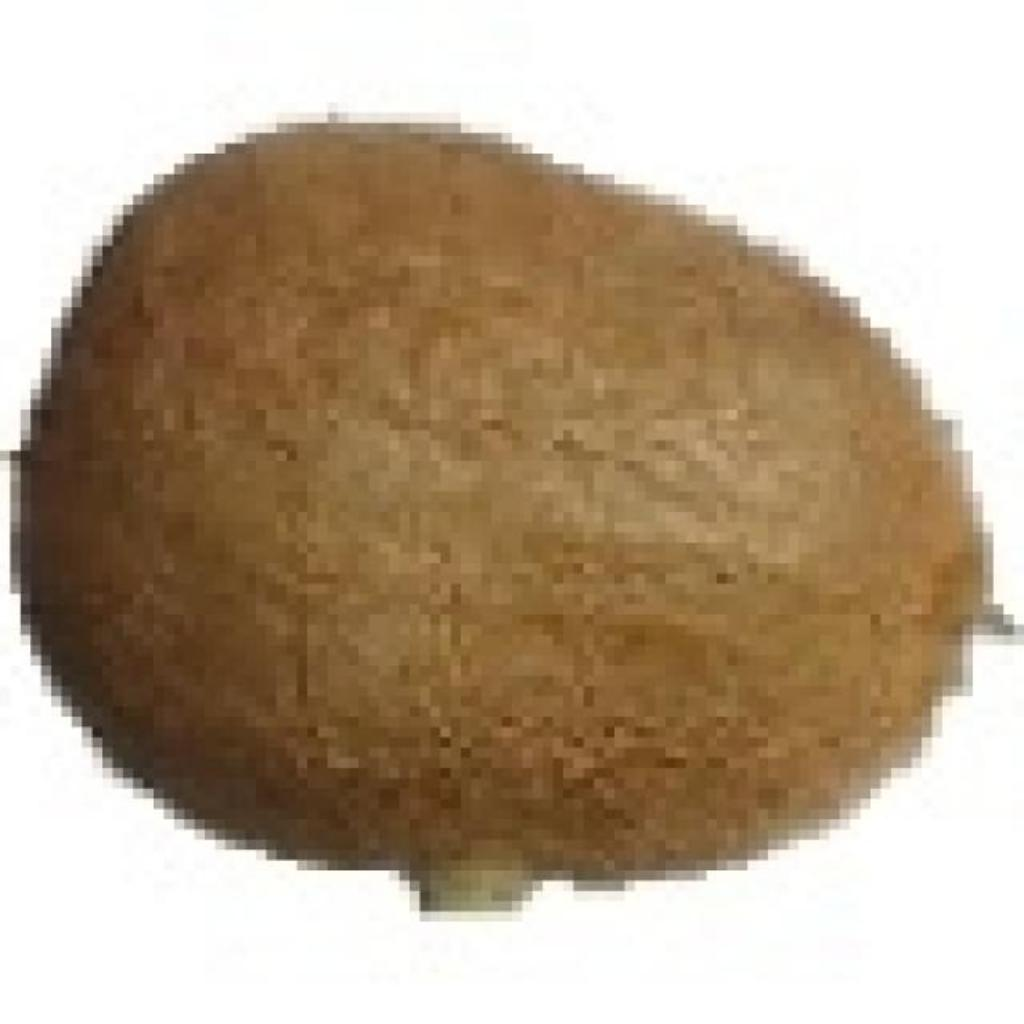kiwi: (41, 113, 993, 881)
